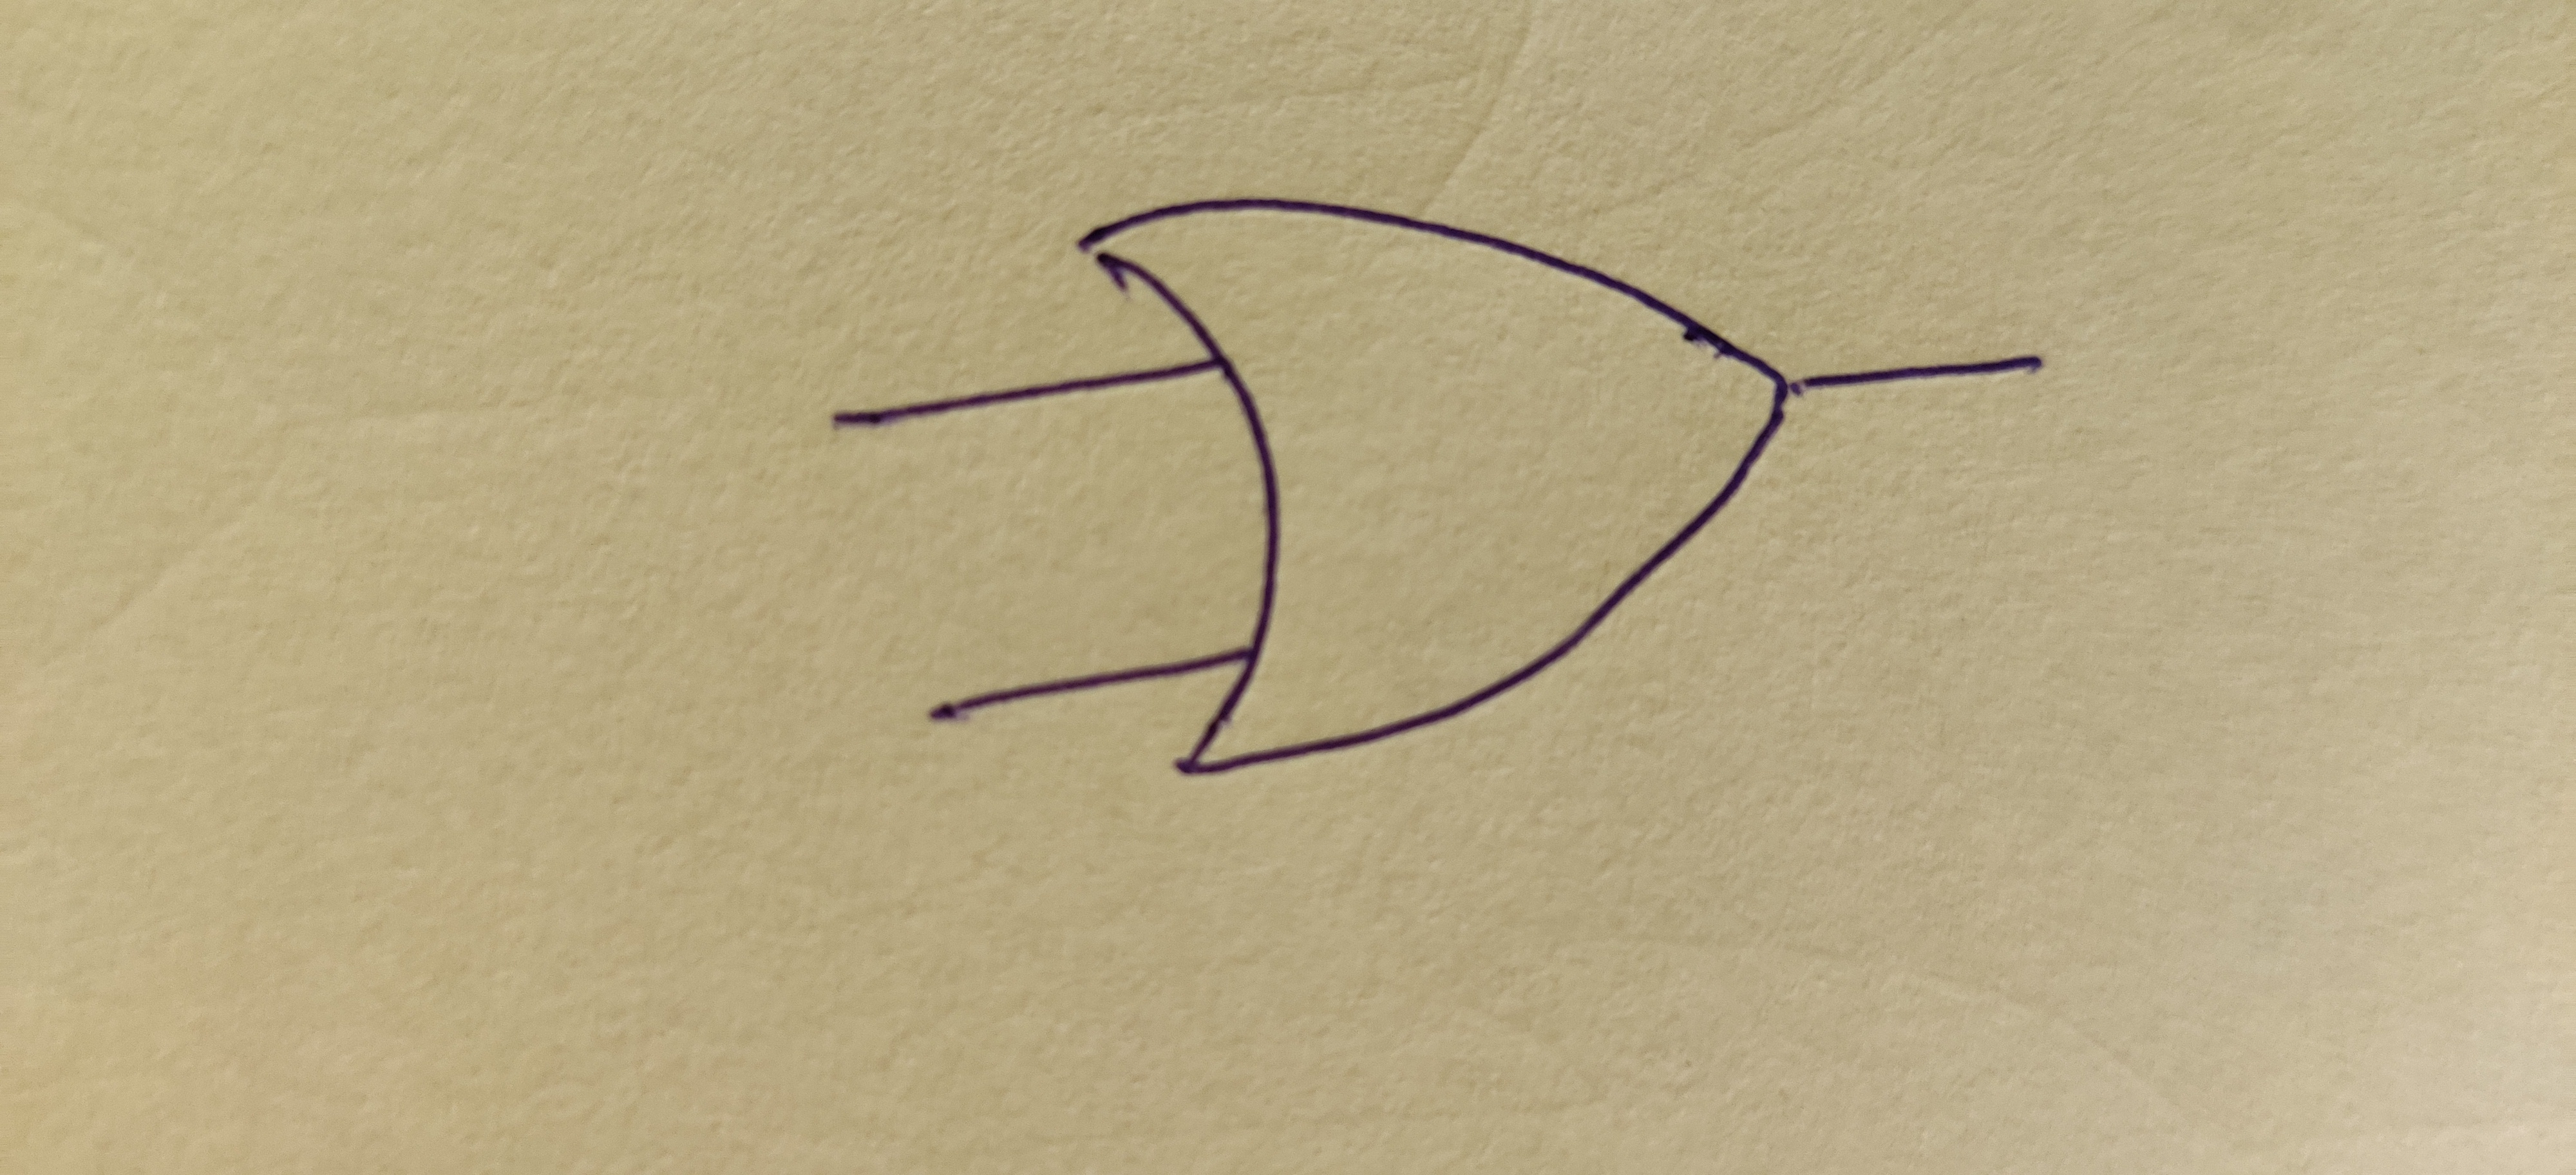or: (1086, 199, 1786, 769)
